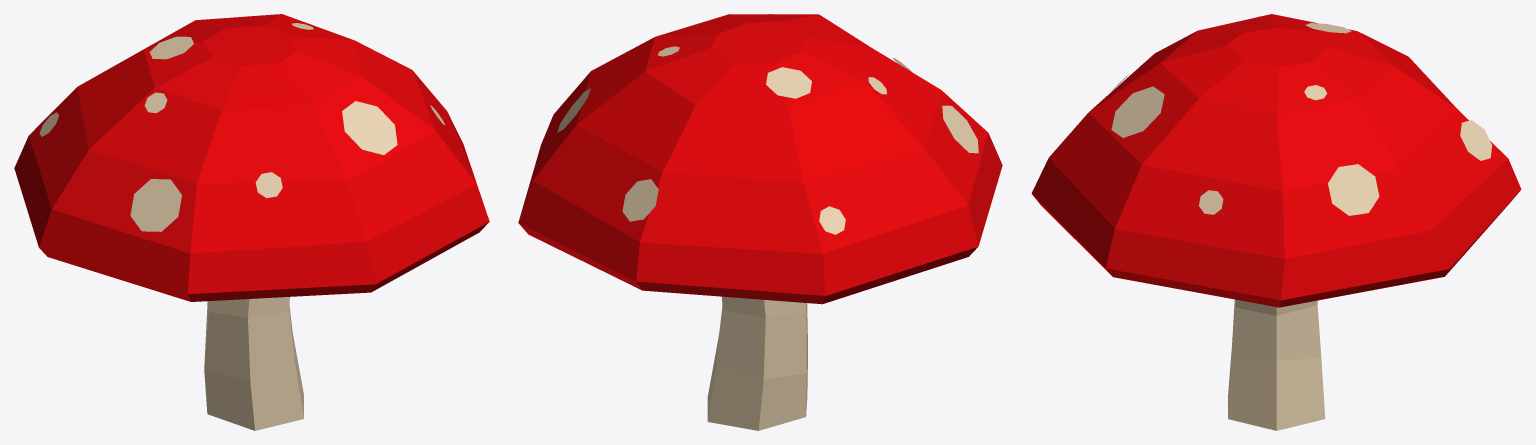
File: RedMushroom.fbx
3 renders of one model, left to right at view 1: azimuth 30°, elevation 25°; view 2: azimuth 150°, elevation 25°; view 3: azimuth 270°, elevation 25°, orthographic. The views are drawn at different scales.
Parts seen in each view (by area): view 1: RedMushroom; view 2: RedMushroom; view 3: RedMushroom.
Part boxes in pixels (x1=…): RedMushroom: x1=14, y1=14, x2=489, y2=430; RedMushroom: x1=518, y1=14, x2=1002, y2=430; RedMushroom: x1=1031, y1=14, x2=1521, y2=430.
Size of the model in its own units: 0.5111 by 0.4153 by 0.5115.
